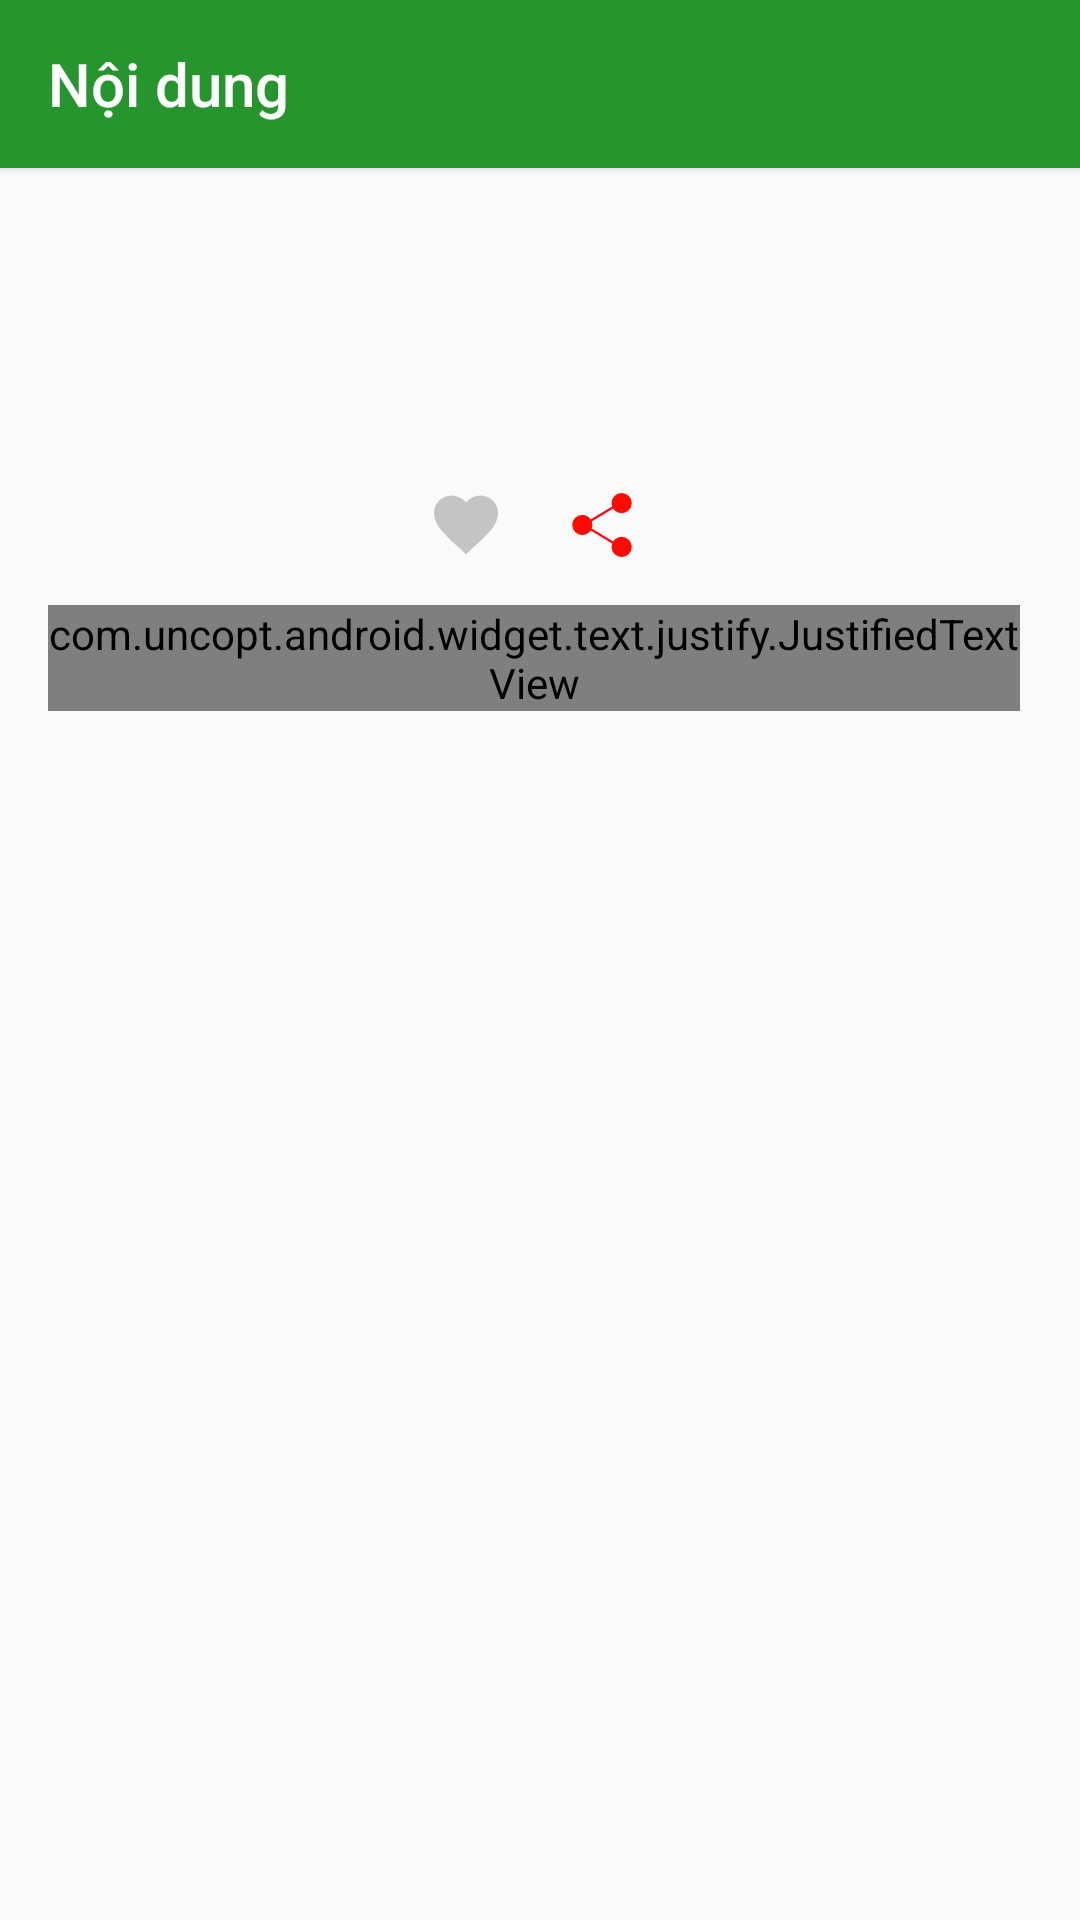

Where icons sit on this 1080×1920 app screen, as bbox(x1, y1, x2, y2):
favorite: bbox(434, 496, 498, 554)
share: bbox(572, 493, 632, 557)
